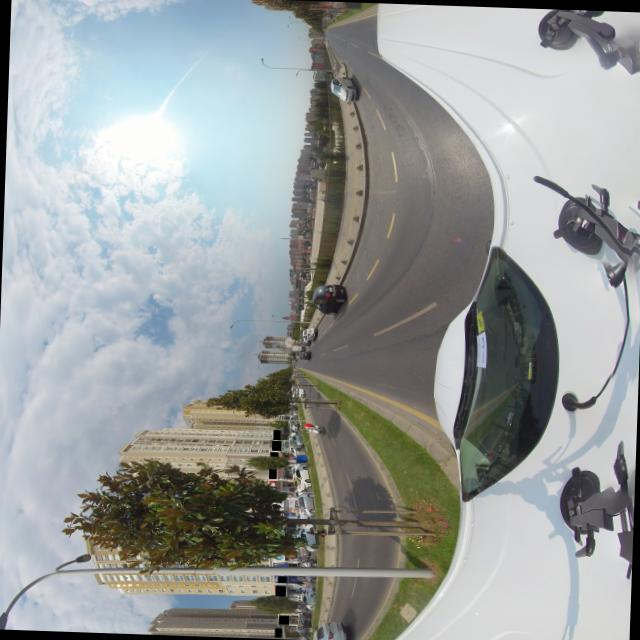SignStore: (275, 584, 285, 595), (279, 614, 289, 624), (271, 440, 281, 449), (273, 429, 281, 439), (269, 468, 277, 477), (277, 575, 287, 582), (275, 627, 281, 636), (270, 451, 278, 455)
